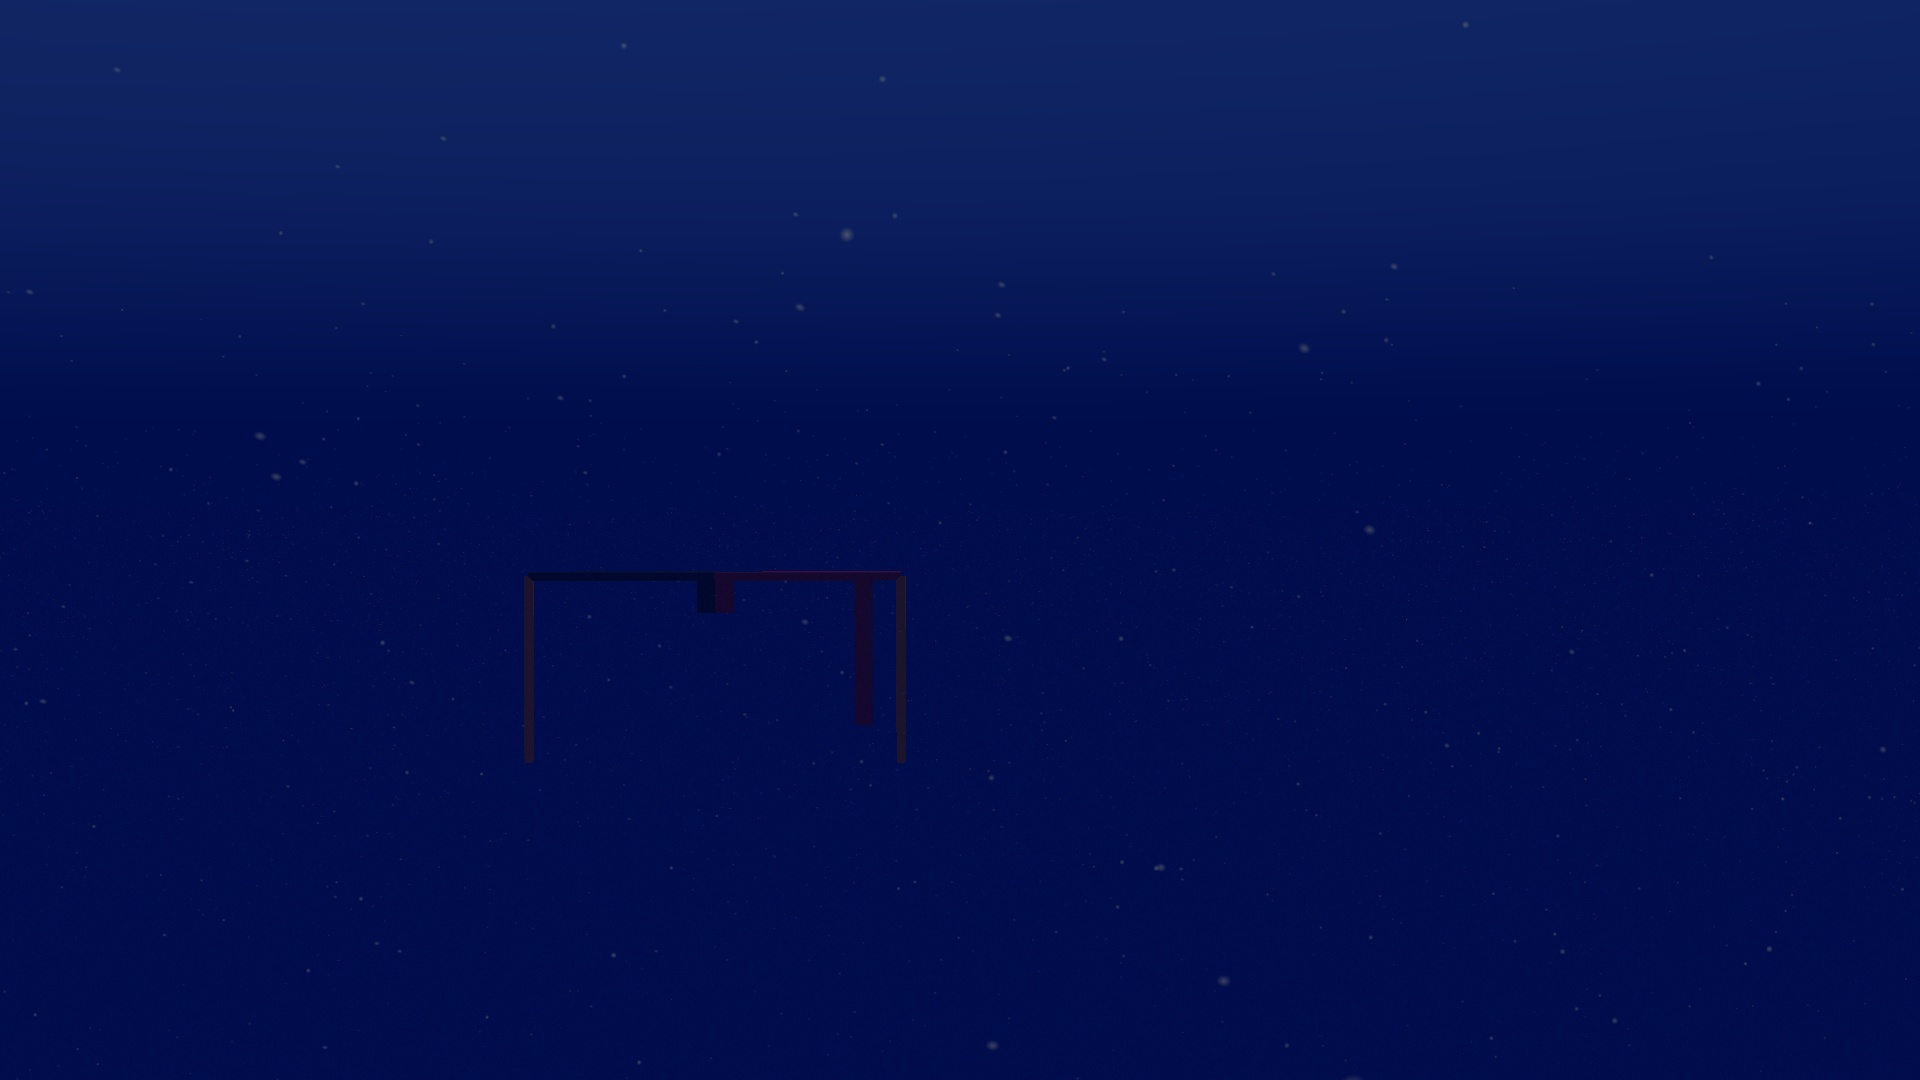Gate: (516, 560, 913, 775)
